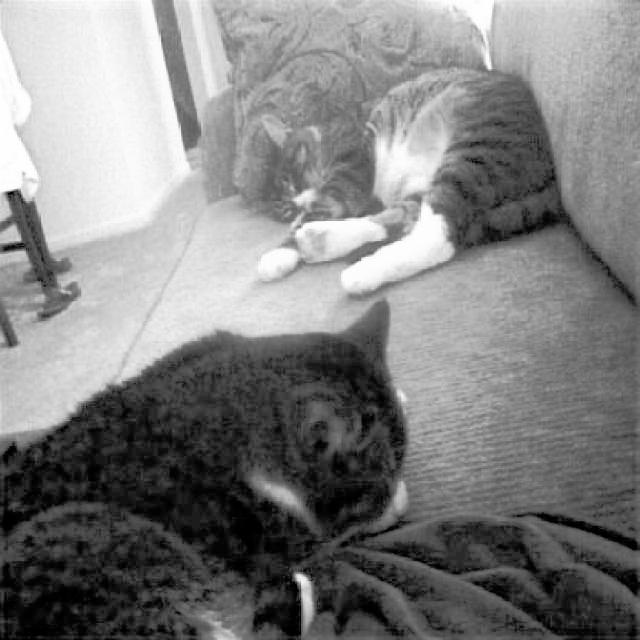Cat: (0, 289, 417, 640), (257, 62, 560, 301)
